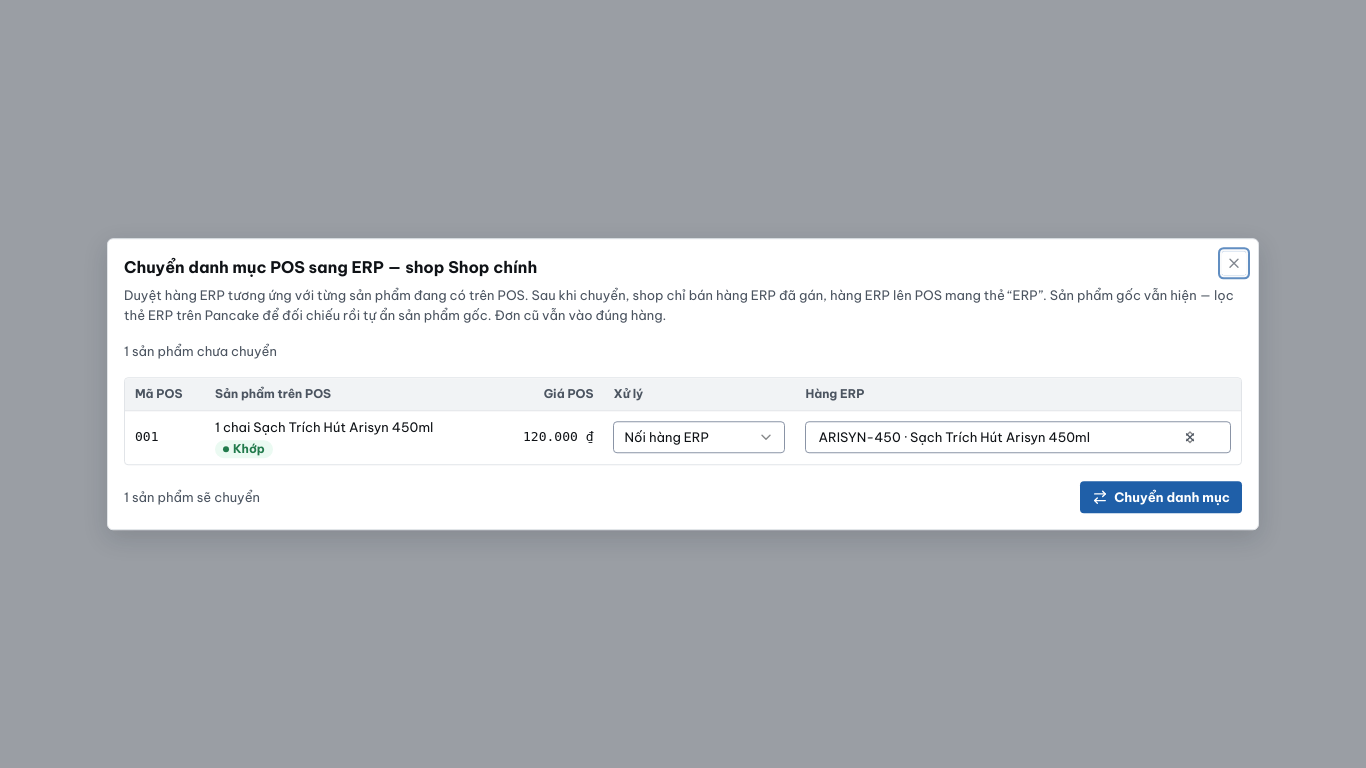
PancakeCatalogMigrationDialog › xong có lỗi → liệt kê dòng chưa xong (hàng ERP chưa lên POS)
Click the button "Chuyển danh mục" at [1161, 497], box top-left (1080, 481), bottom-right (1242, 513)
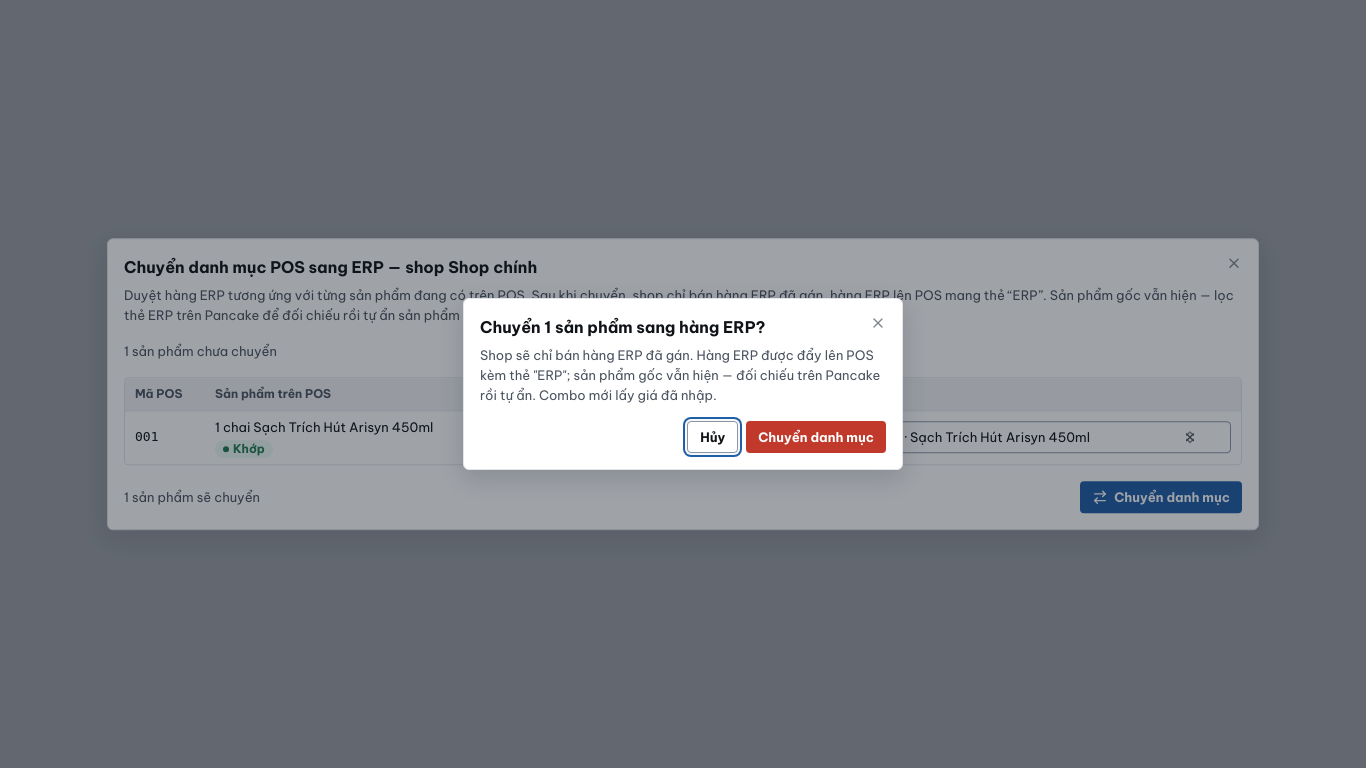
Click the button "Chuyển danh mục" at [816, 437], box top-left (746, 421), bottom-right (886, 453)
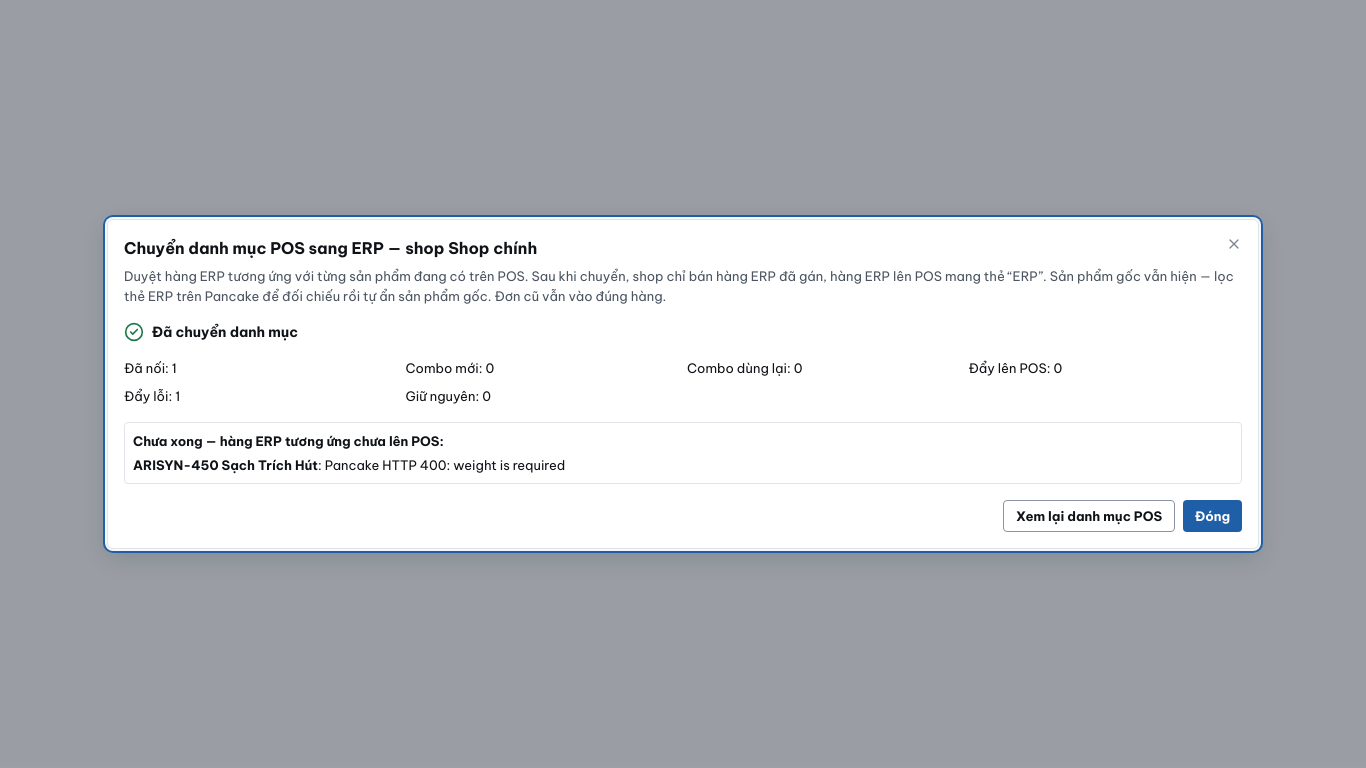
Result: the text "Đã chuyển danh mục" is shown at top-left (152, 322), bottom-right (298, 342)
Result: the list item "weight is required" is shown at top-left (325, 457), bottom-right (565, 473)
Result: the list item "Đẩy lỗi: 1" is shown at top-left (124, 388), bottom-right (180, 404)
